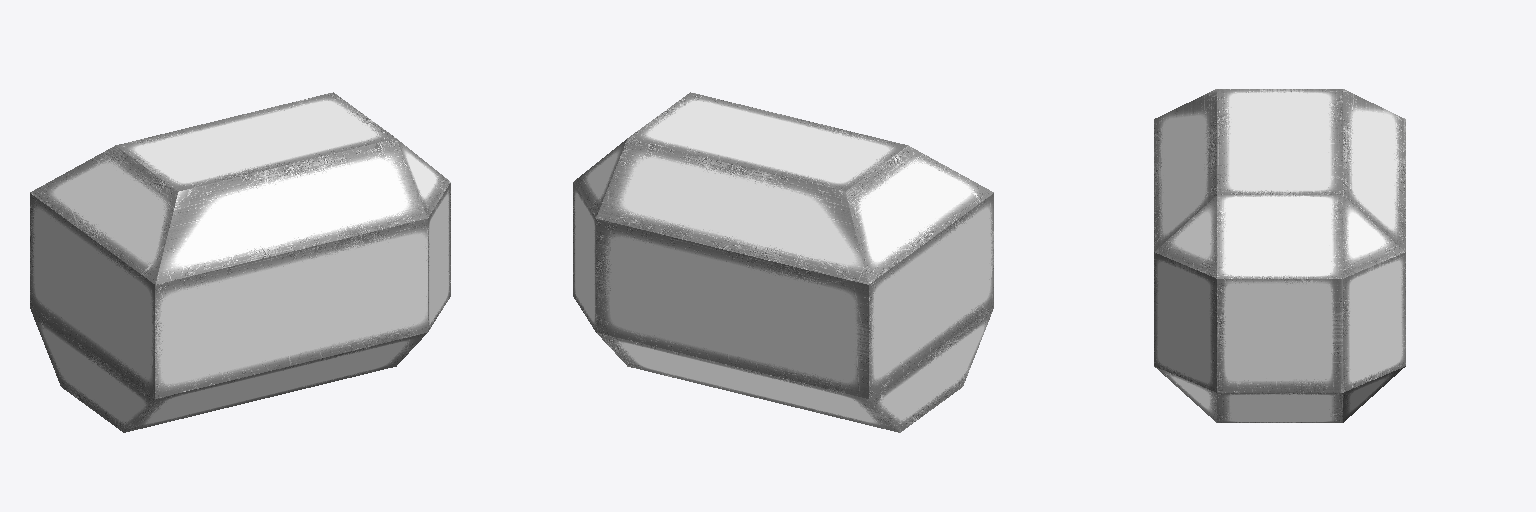
The picture shows the model from 3 angles: view 1: azimuth 30°, elevation 25°; view 2: azimuth 150°, elevation 25°; view 3: azimuth 270°, elevation 25°; orthographic projection.
Visible parts, largest first — view 1: AD-2-Head; view 2: AD-2-Head; view 3: AD-2-Head.
Part boxes in pixels (bbox=[...]): AD-2-Head: bbox=[30, 92, 450, 432]; AD-2-Head: bbox=[573, 92, 993, 432]; AD-2-Head: bbox=[1154, 89, 1405, 422].
Size of the model in its own units: 0.75 by 0.5 by 0.5.
Materials: 1 (1 with a texture image).